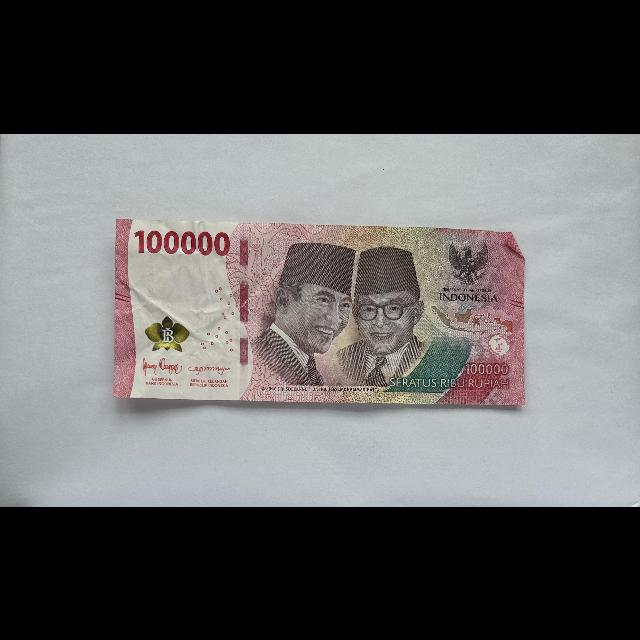Asli-100k: (112, 216, 526, 407)
Tinta-Asli-100k: (144, 314, 191, 353)
